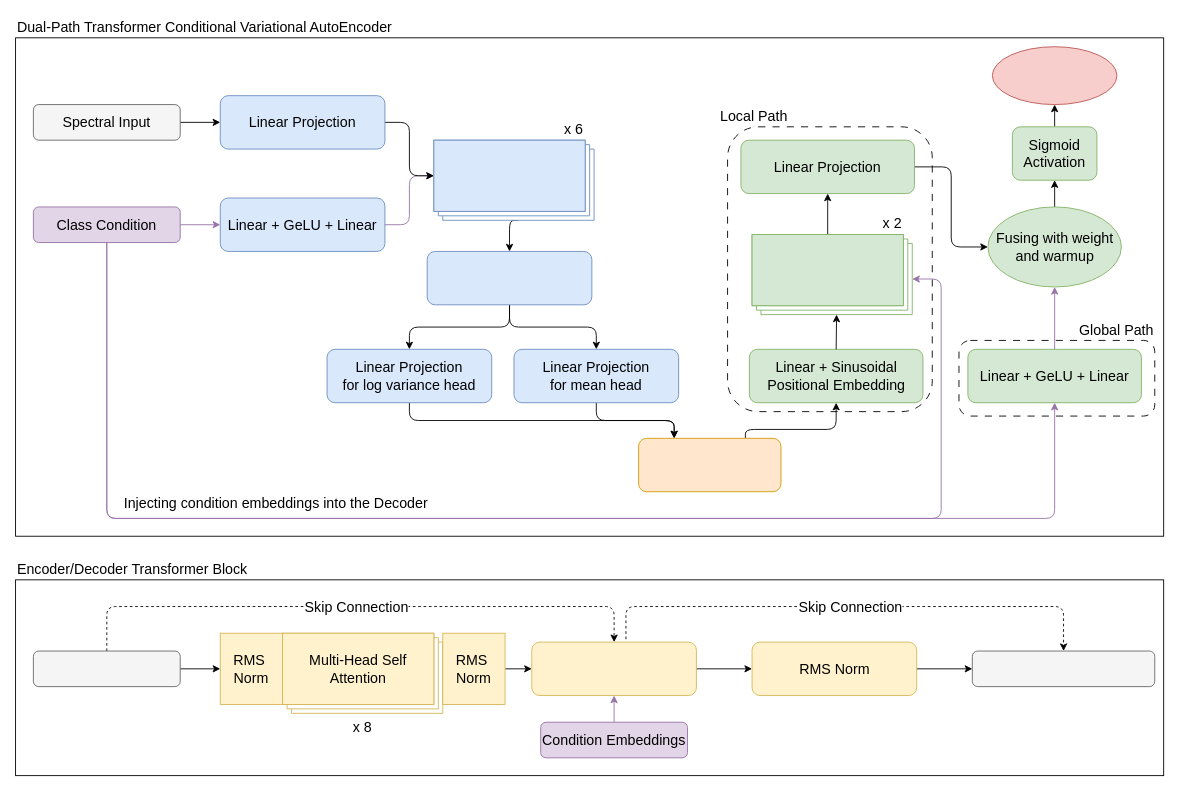
Image size: 1179x791. Some labels were removed from this diagram. The centre of each missing label's shape, as x and y in pixels:
"Cross-Attention/ GatedFiLM" belongs at pixel 613 668.
"Decoder Transformer Block" belongs at pixel 827 270.
"Encoder Transformer Block" belongs at pixel 509 175.
"Mean Pooling" belongs at pixel 509 278.
"Predicted Spectral Output" belongs at pixel 1054 75.
"Reparameterized as z = mu + eps * std" belongs at pixel 709 464.
"Spectral Features" belongs at pixel 106 668.
"Spectral Output Features" belongs at pixel 1063 668.
